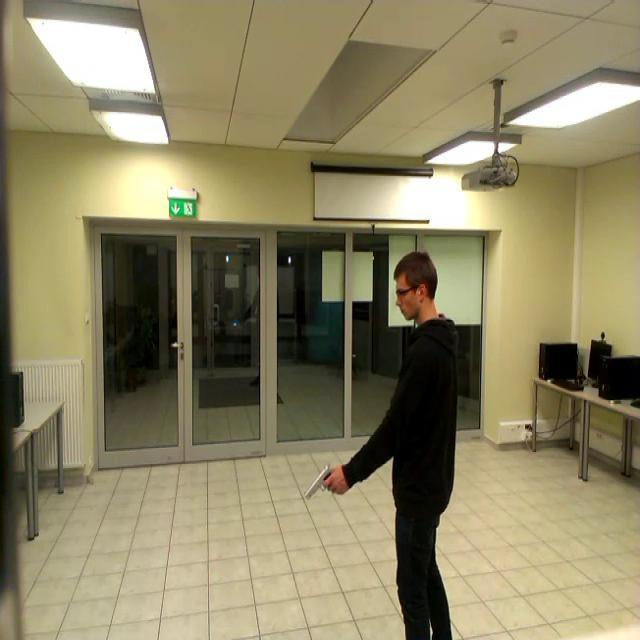weapon: (302, 466, 342, 502)
